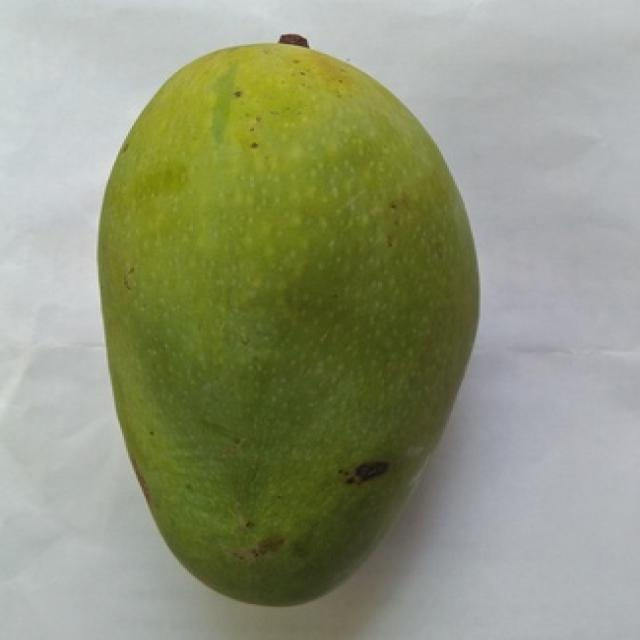Mango: (98, 44, 477, 604)
